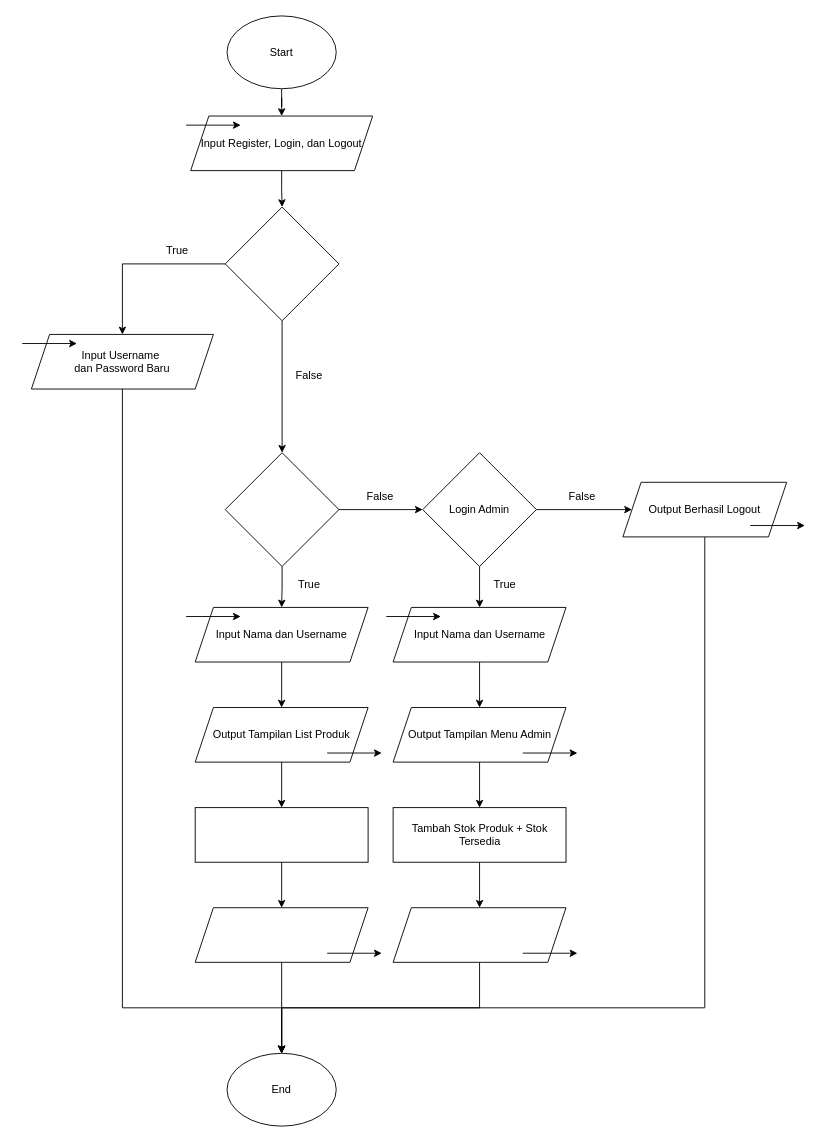
Some shapes in this 828 by 1142 pixel diagram are drawn without their labels. Each missing label, with the centre of its shape:
"Hitung Jumlah Produk" goes at point 281,834.
"Login Customer" goes at point 281,509.
"Output Jumlah Seluruh Stok Produk" goes at point 479,934.
"Output Total Seluruh Harga Produk" goes at point 281,934.
"Registrasi" goes at point 281,263.
